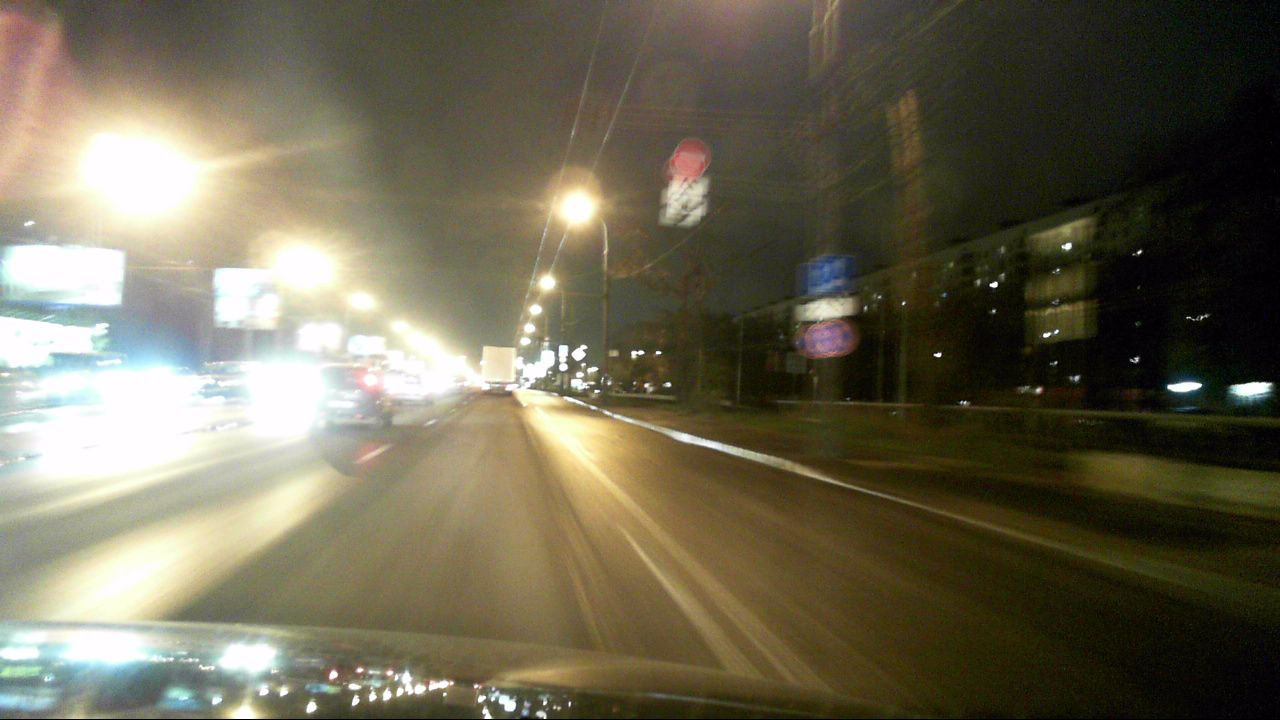No Parking: (815, 320, 854, 357)
